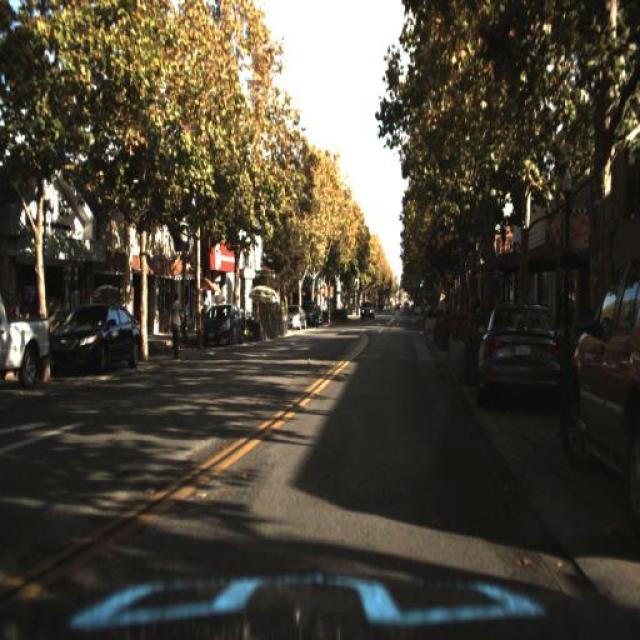car: (563, 254, 639, 527), (474, 297, 558, 409), (58, 296, 144, 378), (0, 291, 50, 389), (200, 302, 244, 349), (282, 305, 306, 336), (286, 303, 306, 337), (302, 296, 318, 332), (356, 298, 374, 326), (357, 299, 375, 321)
trafficLight: (168, 290, 188, 359)
